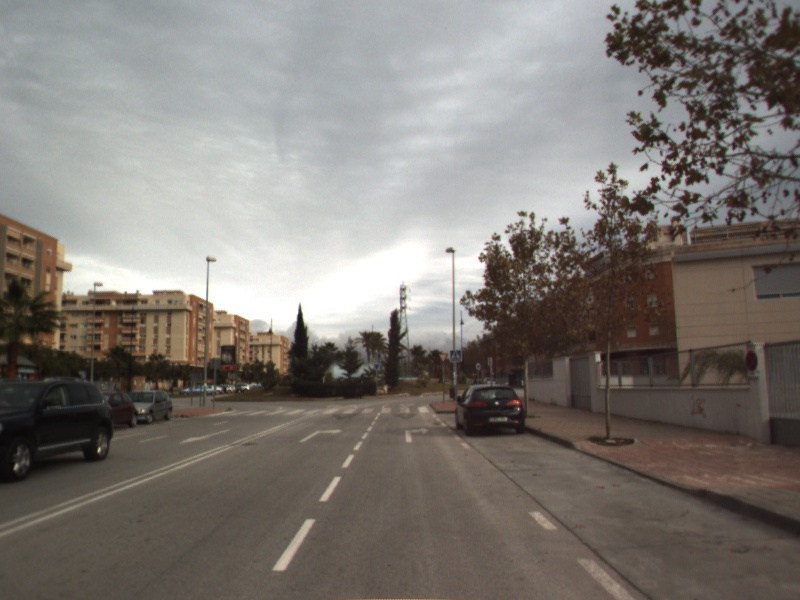RIGHT: (296, 426, 345, 444), (403, 425, 432, 445)
